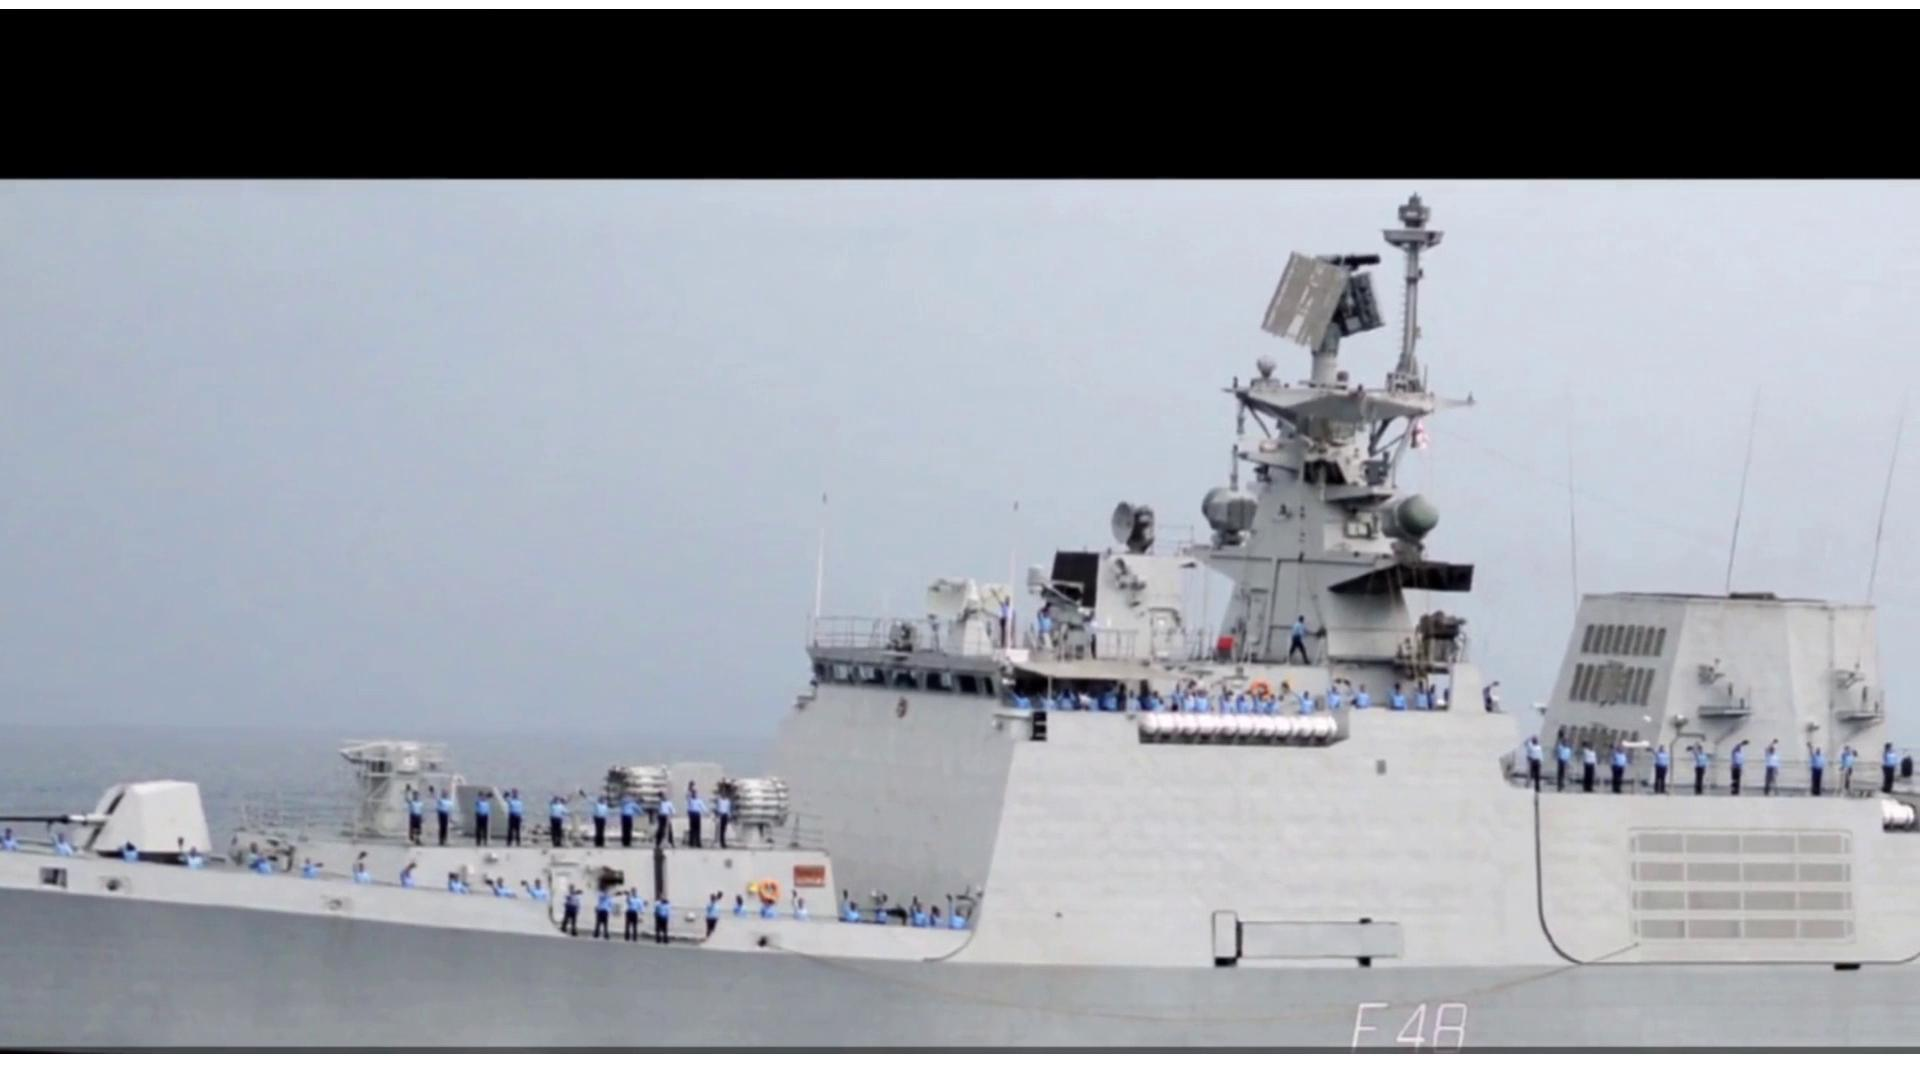OCR: (1322, 989, 1480, 1050)
